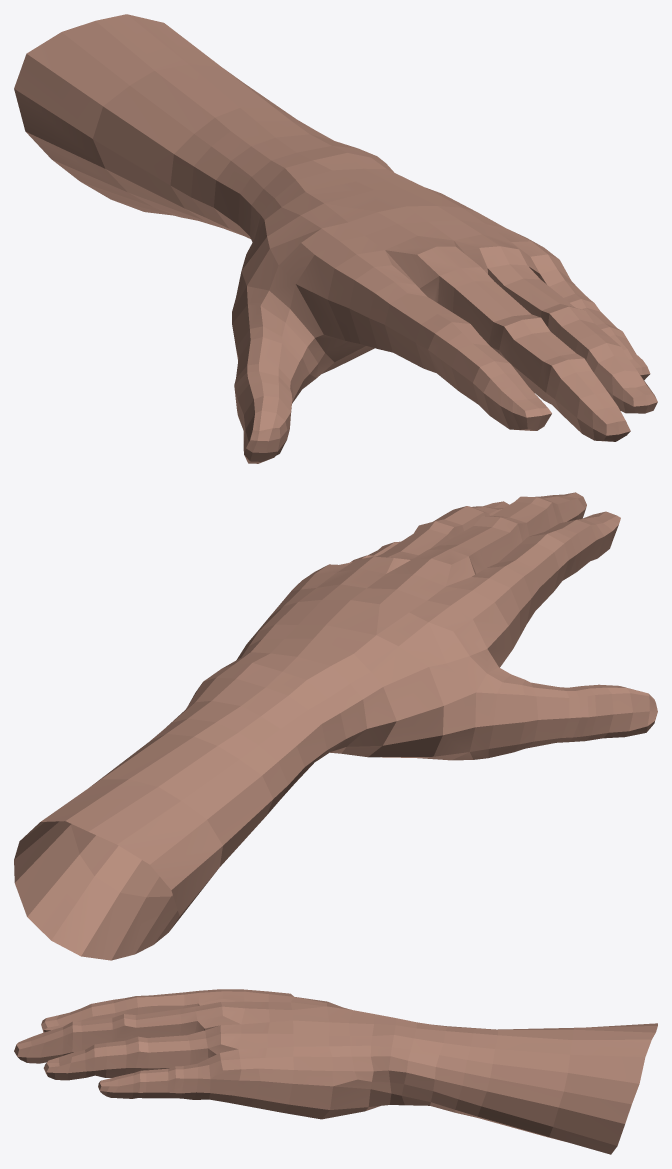
File: 1_6_HandPolygonalLeftBack.glb
3 renders of one model, top to bottom at view 1: azimuth 30°, elevation 25°; view 2: azimuth 150°, elevation 25°; view 3: azimuth 270°, elevation 25°, orthographic. The views are drawn at different scales.
Visible parts, largest first — view 1: hand_femme_polySurface1.005; view 2: hand_femme_polySurface1.005; view 3: hand_femme_polySurface1.005.
Boxes of the visible parts, box(x1,y1,x2,y2) form: hand_femme_polySurface1.005: box(14, 14, 657, 463); hand_femme_polySurface1.005: box(14, 492, 657, 960); hand_femme_polySurface1.005: box(14, 989, 657, 1154).
Bounding box in the file's own units: 0.0733 × 0.042 × 0.1908.
